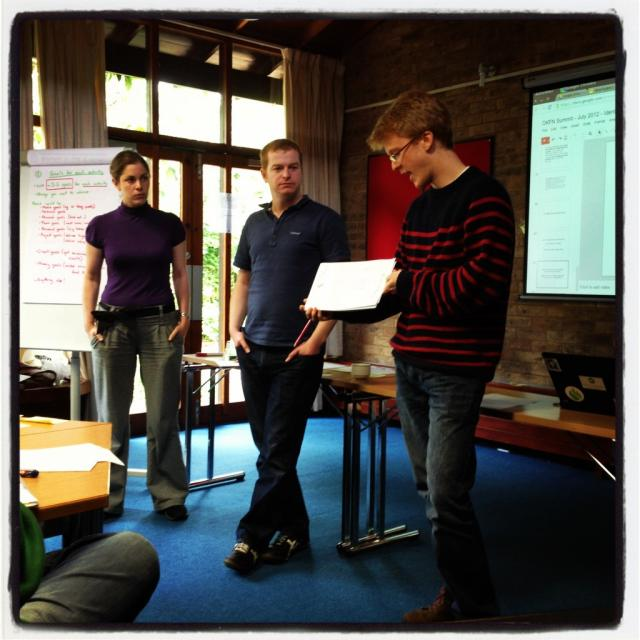desk: (18, 412, 112, 546)
laptop: (542, 352, 616, 416)
person: (356, 94, 516, 604), (226, 138, 350, 572), (81, 153, 192, 526)
